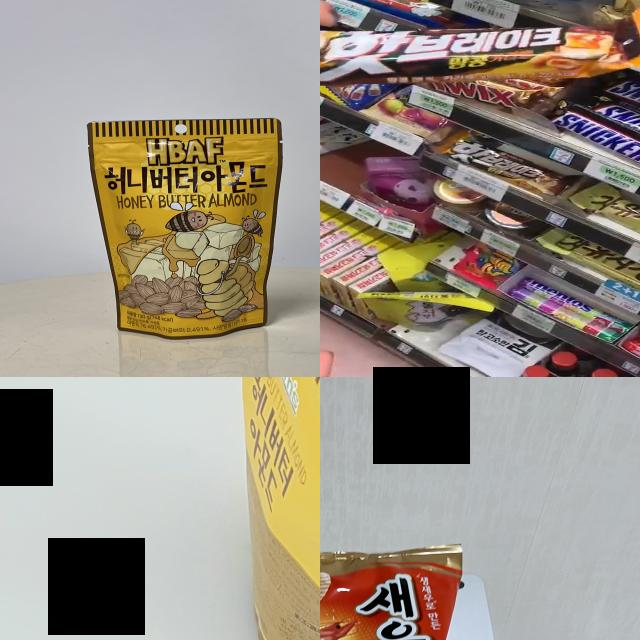honeyAmond: (93, 120, 272, 330), (237, 377, 320, 640)
hotBreak: (320, 7, 640, 96)
shrimpGGang: (320, 550, 468, 640)
